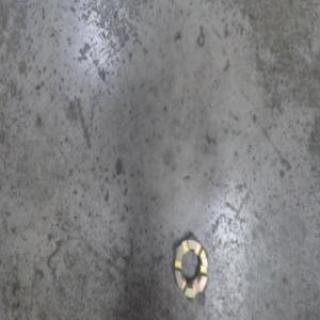Nuttrack_idkeyframe: (172, 231, 208, 301)
